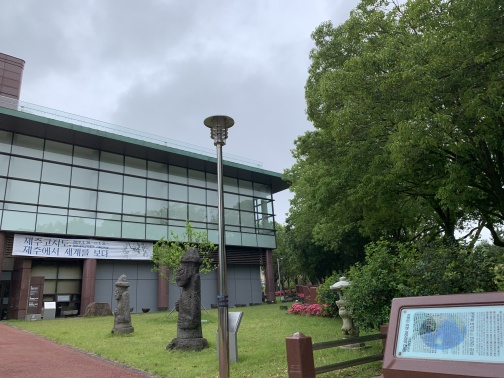Museum: (1, 56, 297, 325)
